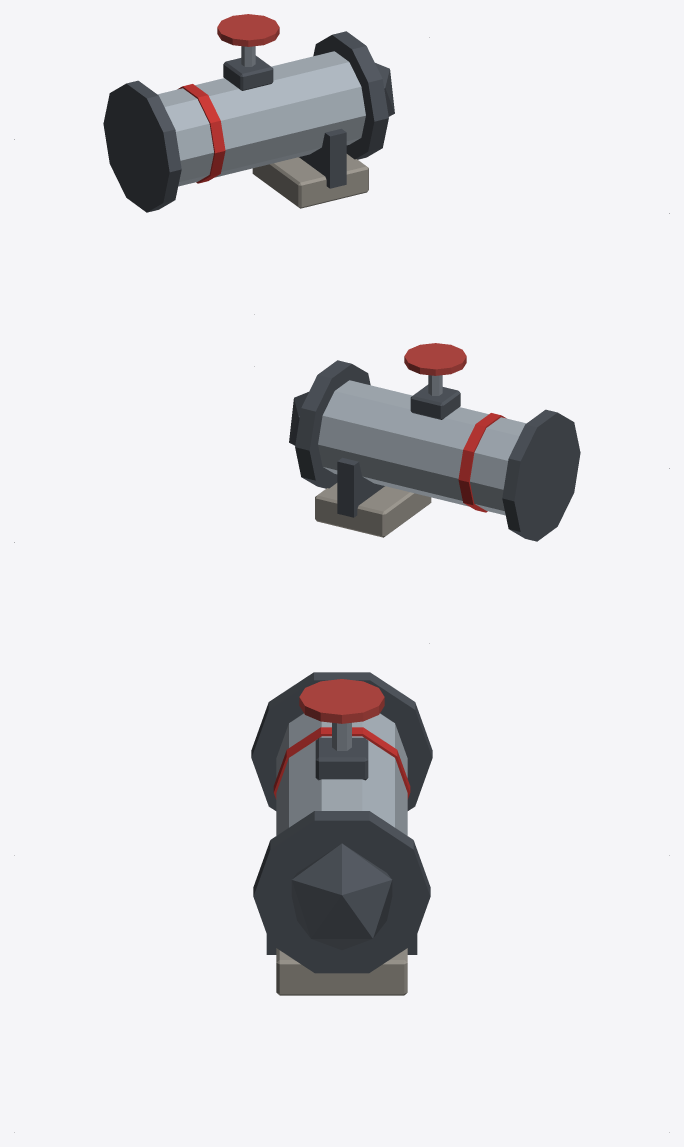
File: tuyau_bout_t3.glb
3 renders of one model, top to bottom at view 1: azimuth 30°, elevation 25°; view 2: azimuth 150°, elevation 25°; view 3: azimuth 270°, elevation 25°, orthographic. The views are drawn at different scales.
Visible parts, largest first — view 1: pieces_inox.014, pieces_acier_sombre.044, pieces_beton.044, pieces_rouge.008, pieces_rive_t3.014; view 2: pieces_inox.014, pieces_acier_sombre.044, pieces_beton.044, pieces_rouge.008, pieces_rive_t3.014; view 3: pieces_acier_sombre.044, pieces_inox.014, pieces_beton.044, pieces_rouge.008, pieces_rive_t3.014.
Boxes of the visible parts, <box> form: pieces_inox.014: <box>157,51,365,186</box>; pieces_acier_sombre.044: <box>103,31,394,212</box>; pieces_beton.044: <box>252,154,368,208</box>; pieces_rouge.008: <box>217,14,279,46</box>; pieces_rive_t3.014: <box>177,84,225,183</box>; pieces_inox.014: <box>318,380,526,515</box>; pieces_acier_sombre.044: <box>289,360,580,541</box>; pieces_beton.044: <box>315,483,431,537</box>; pieces_rouge.008: <box>404,343,466,375</box>; pieces_rive_t3.014: <box>458,413,506,512</box>; pieces_acier_sombre.044: <box>251,672,432,973</box>; pieces_inox.014: <box>276,713,407,835</box>; pieces_beton.044: <box>276,948,407,995</box>; pieces_rouge.008: <box>299,679,384,723</box>; pieces_rive_t3.014: <box>273,727,410,799</box>.
Size of the model in its own units: 1 by 0.395 by 1.
